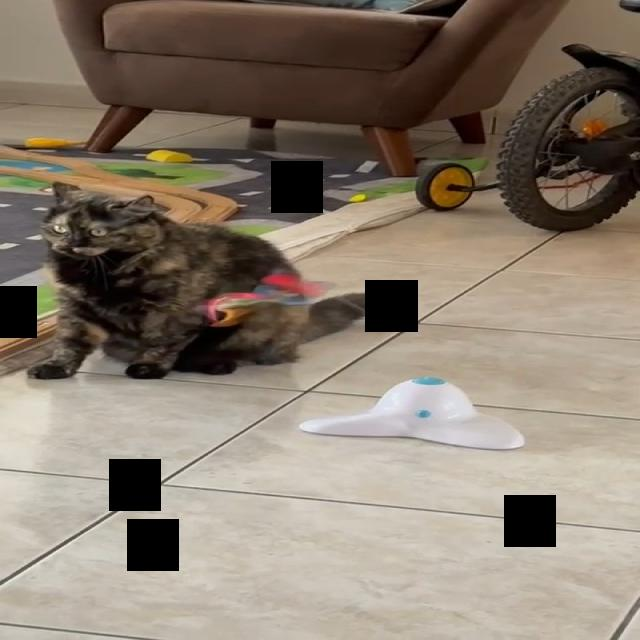authorized: (25, 180, 388, 380)
